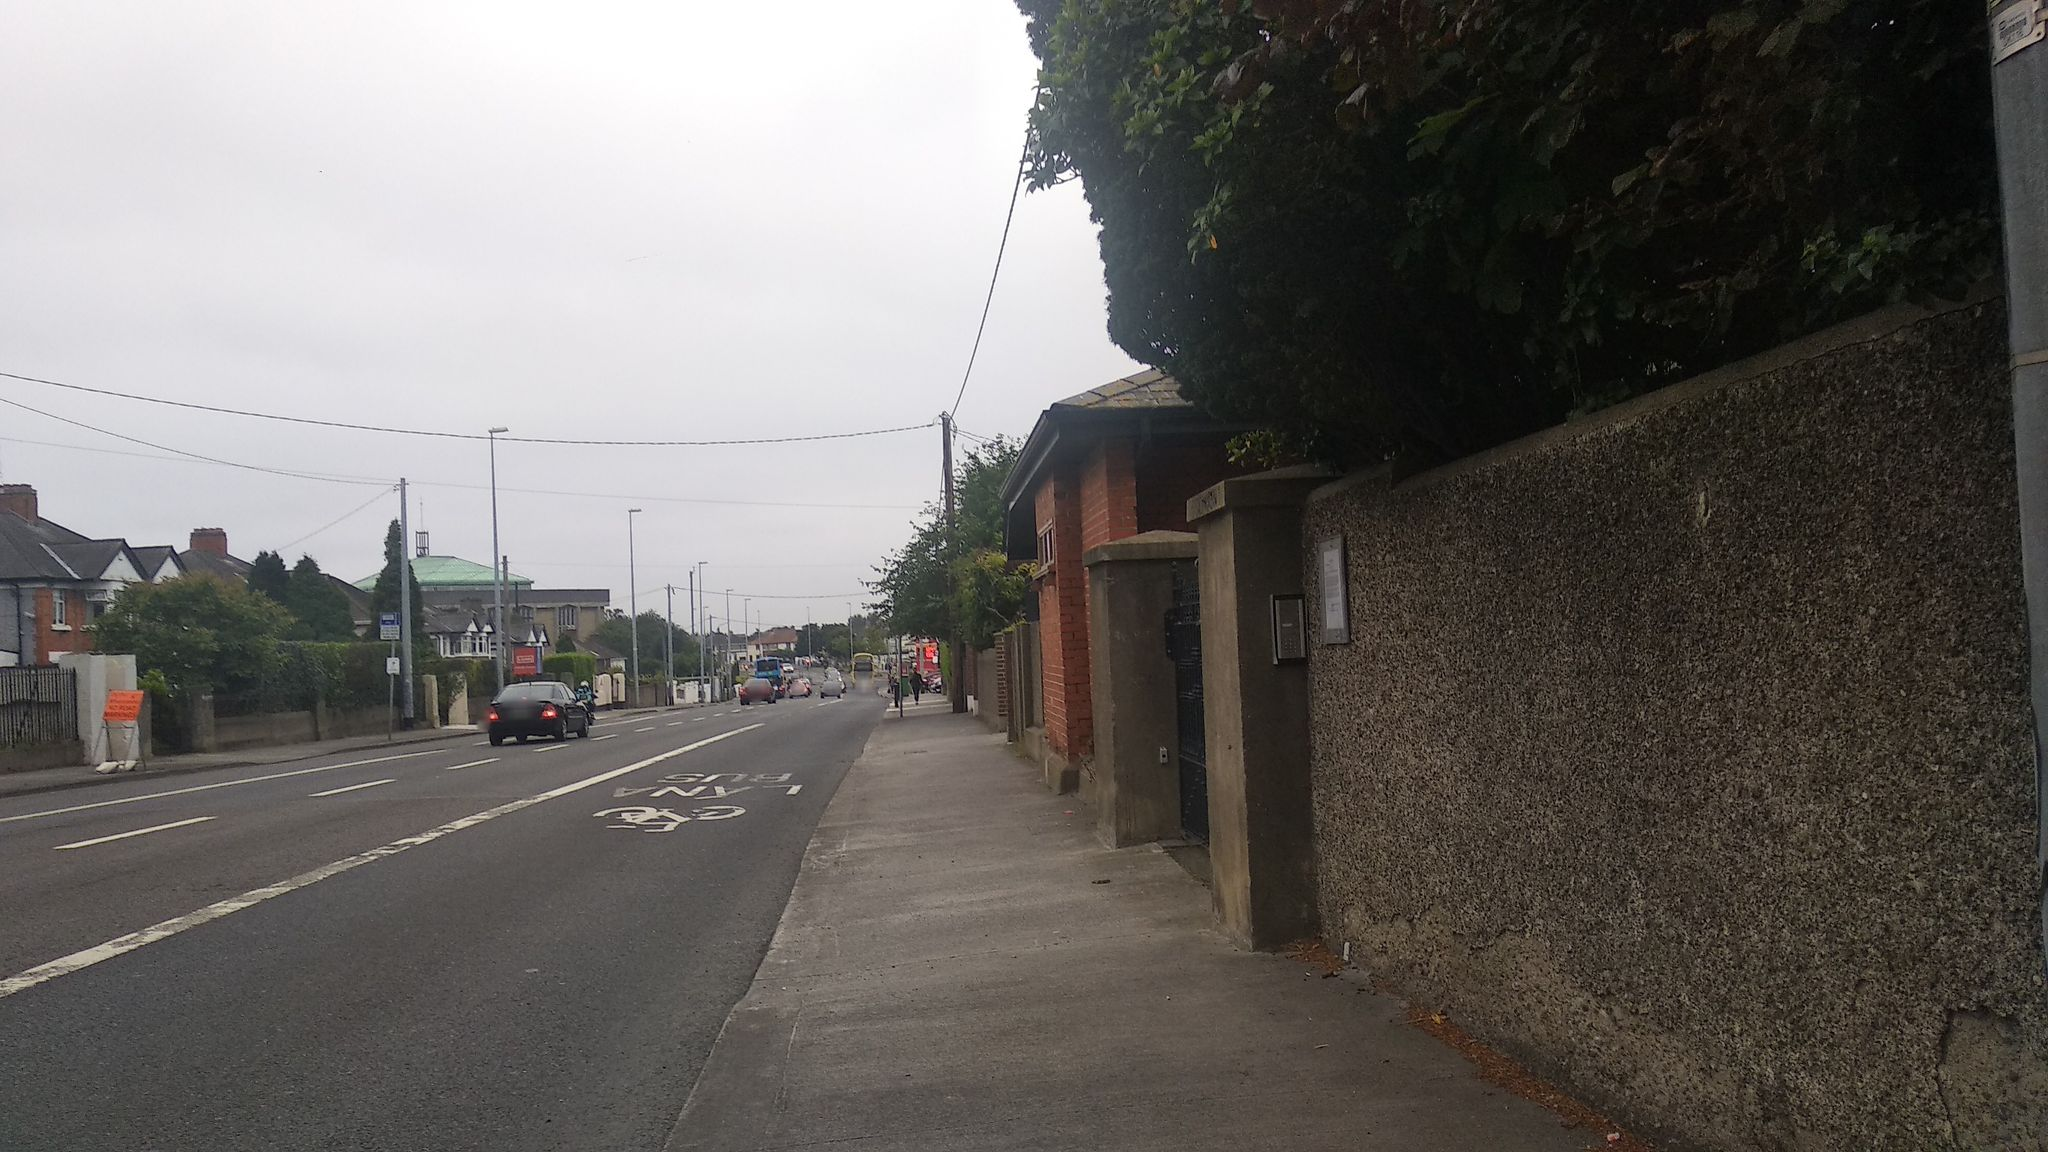property sign: (504, 627, 551, 682)
